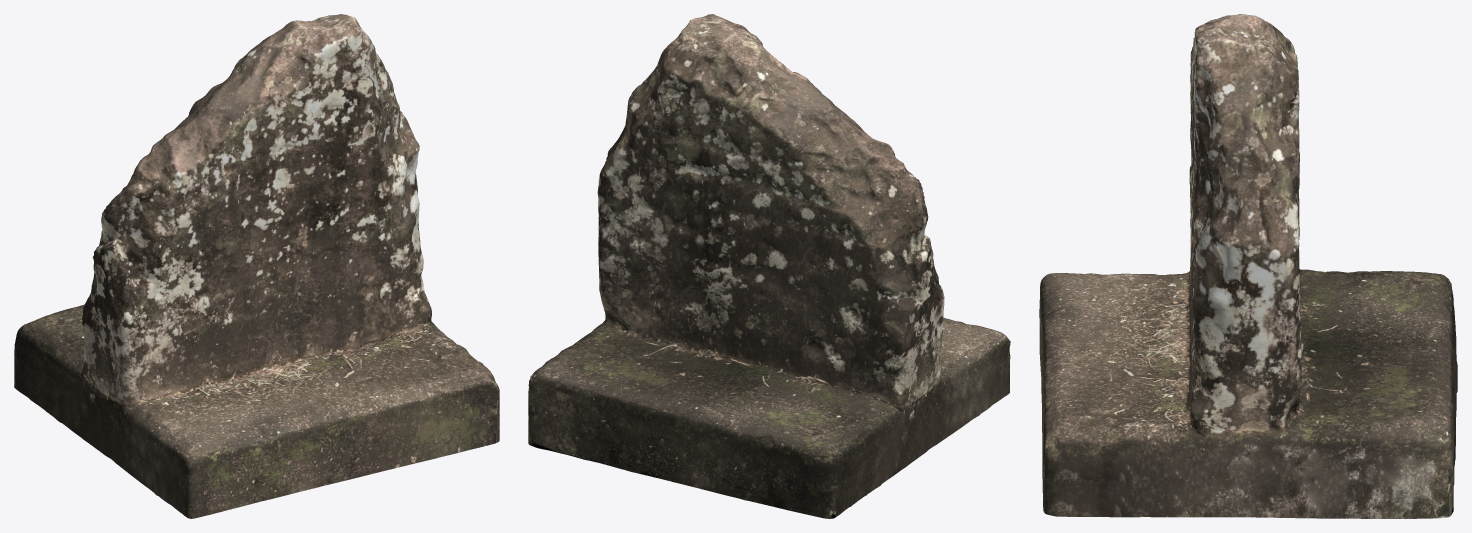
Rendered from 29_MysonSanctuaryD_biaki_final.glb.
3 renders of one model, left to right at view 1: azimuth 30°, elevation 25°; view 2: azimuth 150°, elevation 25°; view 3: azimuth 270°, elevation 25°, orthographic. The views are drawn at different scales.
Size of the model in its own units: 0.7953 by 0.9028 by 0.7829.
1 material, 1 textured.
